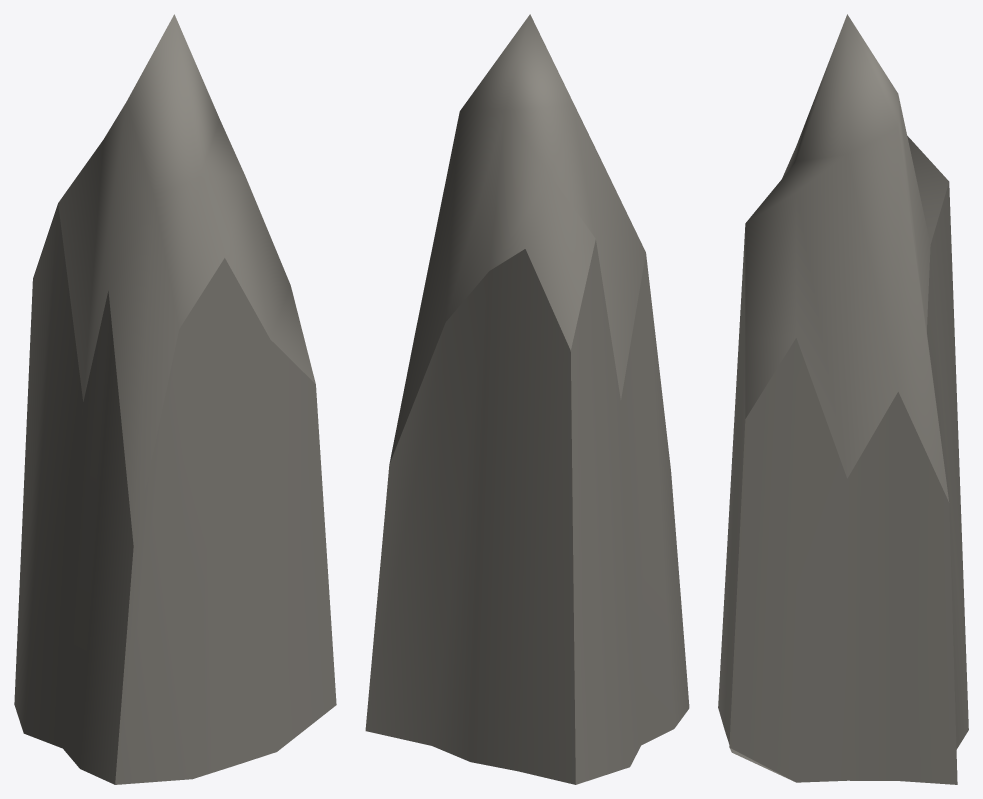
File: Rock.FBX
The picture shows the model from 3 angles, left to right: view 1: azimuth 30°, elevation 25°; view 2: azimuth 150°, elevation 25°; view 3: azimuth 270°, elevation 25°; orthographic projection.
Visible parts, largest first — view 1: Box001; view 2: Box001; view 3: Box001.
Boxes of the visible parts, bbox=[...] form: Box001: bbox=[14, 14, 336, 784]; Box001: bbox=[365, 14, 689, 784]; Box001: bbox=[718, 14, 968, 784].
Size of the model in its own units: 15.18 by 43.4 by 13.78.
